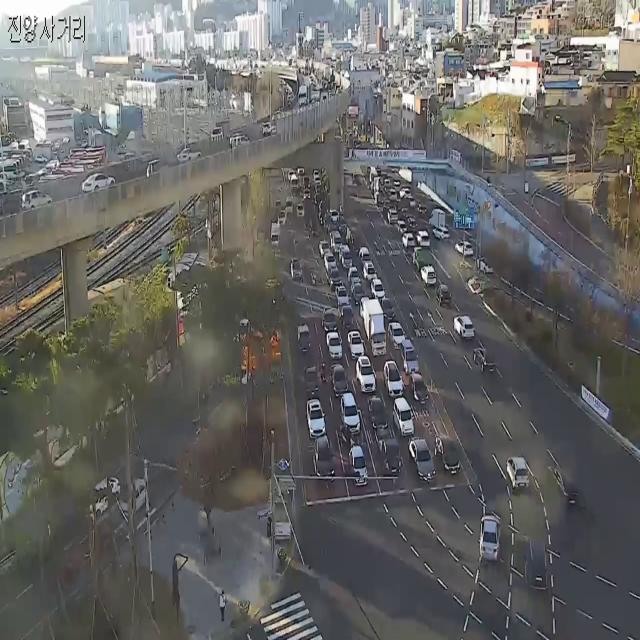motorcycle: (479, 509, 508, 575), (552, 467, 587, 517), (528, 528, 550, 604), (91, 464, 120, 511), (120, 472, 148, 520), (473, 343, 499, 393), (303, 399, 336, 436), (342, 446, 368, 492), (82, 170, 116, 200), (508, 448, 527, 500), (22, 188, 60, 214), (337, 393, 364, 428), (439, 439, 463, 476), (220, 132, 252, 159), (175, 143, 204, 172), (310, 436, 330, 478), (302, 363, 324, 398), (383, 356, 402, 394), (417, 436, 435, 476), (394, 403, 412, 439), (408, 380, 431, 408), (356, 356, 372, 396), (337, 298, 355, 332), (376, 386, 388, 434), (456, 233, 474, 262), (460, 304, 470, 356), (321, 302, 336, 334), (298, 336, 316, 362), (327, 265, 341, 294), (390, 320, 401, 351), (423, 273, 436, 295), (444, 282, 452, 317), (337, 285, 349, 308), (352, 335, 364, 357), (404, 348, 418, 366), (364, 244, 372, 272), (328, 332, 338, 354), (488, 258, 498, 278), (334, 366, 346, 382), (356, 282, 364, 306), (407, 232, 418, 246), (381, 277, 388, 297), (352, 265, 358, 287), (388, 302, 394, 320)
truck: (377, 424, 403, 481), (365, 298, 385, 360), (415, 247, 434, 274), (210, 121, 229, 148), (431, 203, 448, 228)
